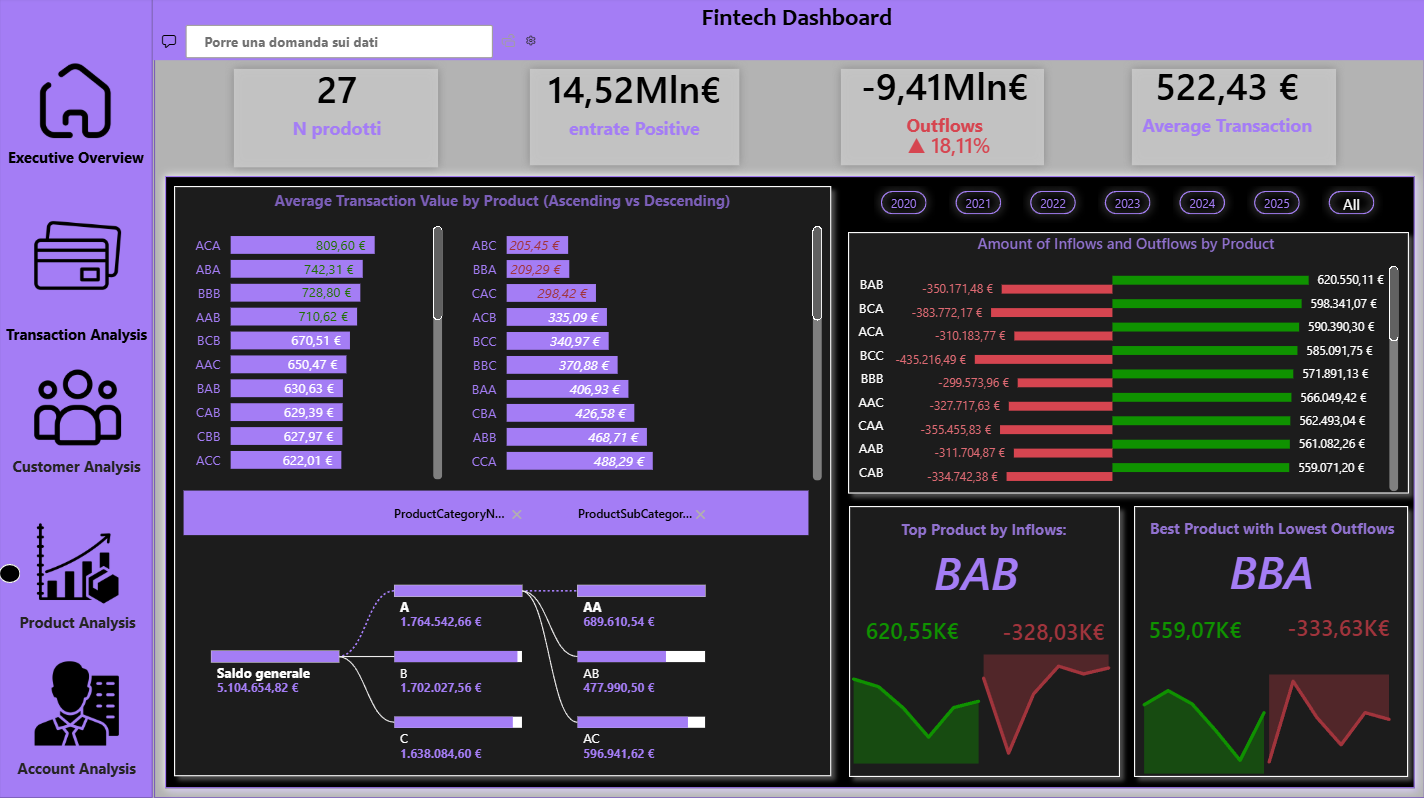

This screenshot's page, from the dashboard's own definition file:
{"tool":"powerbi","page":{"name":"Product Analysis","canvas":[1280,720],"ordinal":3},"visuals":[{"type":"shape","box":[139.1,0,1140.9,719.2],"z":0},{"type":"shape","box":[140,151.3,1140,567.6],"z":1000},{"type":"shape","box":[0,0,138.1,719.2],"z":2000},{"type":"shape","box":[203,56.4,199.2,104.3],"z":3000},{"type":"shape","box":[138.1,0,1141.9,56.7],"z":4000},{"type":"shape","box":[748.1,56.4,198.3,102.4],"z":5000},{"type":"card","fields":{"Values":["Misure.N prodotti"]},"box":[203.9,49.8,199.2,86.5],"z":6000},{"type":"shape","box":[469,56.4,203.9,102.4],"z":7000},{"type":"card","fields":{"Values":["Misure.uscite negative"]},"box":[756.5,49.8,184.2,81.8],"z":8000},{"type":"card","fields":{"Values":["Misure.entrate Positive"]},"box":[460.9,42.2,219.6,101.7],"z":9000},{"type":"textbox","box":[619.7,0,193.7,49.2],"z":10000},{"type":"qnaVisual","box":[136.1,0,356,55.8],"z":11000},{"type":"shape","box":[0,509.4,19.3,17.1],"z":12000},{"type":"textbox","box":[0,130.6,138.1,35.3],"z":13000},{"type":"textbox","box":[0,289,139.1,31],"z":14000},{"type":"textbox","box":[0,407.8,139.1,31],"z":15000},{"type":"image","box":[35.3,55.7,67.4,74.9],"z":16000},{"type":"image","box":[30,329.6,81.3,78.1],"z":17000},{"type":"image","box":[30,469.8,81.3,78.1],"z":18000},{"type":"image","box":[28.9,595.1,81.3,78.1],"z":19000},{"type":"shape","box":[1009.3,56.4,199.2,102.4],"z":20000},{"type":"image","box":[30,192.6,81.3,78.1],"z":21000},{"type":"card","fields":{"Values":["Misure.Uscite YoY KPI"]},"box":[743.4,109,219,52.6],"z":22000},{"type":"textbox","box":[1.1,548,139.1,31],"z":23000},{"type":"textbox","box":[0,678.5,139.1,31],"z":24000},{"type":"card","fields":{"Values":["Misure.valore medio transazione"]},"box":[1019.7,45.1,165.4,91.2],"z":25000},{"type":"shape","box":[148.5,160.7,608,547.9],"z":26000},{"type":"shape","box":[753.7,448.3,261.3,261.3],"z":27000},{"type":"barChart","title":"Average Transaction Value by Product","fields":{"Category":["Dimproduct.ProductName"],"Y":["Misure.valore medio transazione"]},"box":[167.3,192.7,235.9,245.3],"z":28000},{"type":"barChart","title":"Average Transaction Value by Product","fields":{"Category":["Dimproduct.ProductName"],"Y":["Misure.valore medio transazione"]},"box":[414.4,192.7,328.9,246.2],"z":29000},{"type":"textbox","box":[160.7,169.2,582.7,31],"z":30000},{"type":"card","fields":{"Values":["Misure.entrate Positive"]},"box":[762,553.3,115.6,34.2],"z":31000},{"type":"shape","box":[752.8,202.1,521.6,252.8],"z":31500},{"type":"card","fields":{"Values":["Misure.uscite negative"]},"box":[894.7,542.3,103.4,58.3],"z":32000},{"type":"card","fields":{"Values":["Misure.Top Product"]},"box":[756.7,479.5,240.8,73.8],"z":33000},{"type":"clusteredBarChart","title":"Amount of Inflows and Outflows by Product","fields":{"Category":["Dimproduct.ProductName"],"Y":["Misure.entrate Positive","Misure.uscite negative"]},"box":[762.2,211.5,499,236.8],"z":34000},{"type":"textbox","box":[766.9,464.3,234.9,30.1],"z":35000},{"type":"stackedAreaChart","fields":{"Category":["Dimproduct.ProductName","calendario.Date.Variazione.Gerarchia data.Anno"],"Y":["Misure.entrate Positive"]},"box":[753.4,575.8,140.2,117.7],"z":36000},{"type":"stackedAreaChart","fields":{"Category":["Dimproduct.ProductName","calendario.Date.Variazione.Gerarchia data.Anno"],"Y":["Misure.uscite negative"]},"box":[870.1,576.9,140.2,117.7],"z":37000},{"type":"shape","box":[1010.3,448.3,264.1,261.3],"z":38000},{"type":"card","fields":{"Values":["Misure.Top Product outflout"]},"box":[1018.7,492.5,247.2,46],"z":39000},{"type":"card","fields":{"Values":["Misure.entrate Positive"]},"box":[1020.6,549.8,106.2,40.4],"z":40000},{"type":"card","fields":{"Values":["Misure.uscite negative"]},"box":[1149.4,547.9,107.1,40.4],"z":41000},{"type":"lineChart","fields":{"Category":["calendario.Date.Variazione.Gerarchia data.Anno","Dimproduct.ProductName"],"Y":["Misure.entrate Positive"]},"box":[1014.6,595.1,134.8,107],"z":42000},{"type":"lineChart","fields":{"Category":["calendario.Date.Variazione.Gerarchia data.Anno","Dimproduct.ProductName"],"Y":["Misure.uscite negative"]},"box":[1127,595.1,134.8,107],"z":43000},{"type":"textbox","box":[1019.7,463.3,246.2,31],"z":44000},{"type":"decompositionTreeVisual","fields":{"ExplainBy":["DimProductCategory.ProductCategoryName","DimProductSubCategory.ProductSubCategoryName"],"Analyze":["Misure.Saldo generale"]},"box":[160.5,438.3,571.4,255.6],"z":47000},{"type":"bookmarkNavigator","box":[783.8,166.3,459.6,37.6],"z":49000}]}

Visuals, with their boxes on the page's 1280x720 design canvas (x1, y1, x2, y2). These are canvas units, not pixel positions in the 1424x798 screenshot, which may show the page scaled, cropped or inside an application window:
shape: [left=139, top=0, right=1280, bottom=719]
shape: [left=140, top=151, right=1280, bottom=719]
shape: [left=0, top=0, right=138, bottom=719]
shape: [left=203, top=56, right=402, bottom=161]
shape: [left=138, top=0, right=1280, bottom=57]
shape: [left=748, top=56, right=946, bottom=159]
card - Misure.N prodotti: [left=204, top=50, right=403, bottom=136]
shape: [left=469, top=56, right=673, bottom=159]
card - Misure.uscite negative: [left=756, top=50, right=941, bottom=132]
card - Misure.entrate Positive: [left=461, top=42, right=680, bottom=144]
textbox: [left=620, top=0, right=813, bottom=49]
qnaVisual: [left=136, top=0, right=492, bottom=56]
shape: [left=0, top=509, right=19, bottom=526]
textbox: [left=0, top=131, right=138, bottom=166]
textbox: [left=0, top=289, right=139, bottom=320]
textbox: [left=0, top=408, right=139, bottom=439]
image: [left=35, top=56, right=103, bottom=131]
image: [left=30, top=330, right=111, bottom=408]
image: [left=30, top=470, right=111, bottom=548]
image: [left=29, top=595, right=110, bottom=673]
shape: [left=1009, top=56, right=1208, bottom=159]
image: [left=30, top=193, right=111, bottom=271]
card - Misure.Uscite YoY KPI: [left=743, top=109, right=962, bottom=162]
textbox: [left=1, top=548, right=140, bottom=579]
textbox: [left=0, top=678, right=139, bottom=710]
card - Misure.valore medio transazione: [left=1020, top=45, right=1185, bottom=136]
shape: [left=148, top=161, right=756, bottom=709]
shape: [left=754, top=448, right=1015, bottom=710]
"Average Transaction Value by Product" barChart: [left=167, top=193, right=403, bottom=438]
"Average Transaction Value by Product" barChart: [left=414, top=193, right=743, bottom=439]
textbox: [left=161, top=169, right=743, bottom=200]
card - Misure.entrate Positive: [left=762, top=553, right=878, bottom=588]
shape: [left=753, top=202, right=1274, bottom=455]
card - Misure.uscite negative: [left=895, top=542, right=998, bottom=601]
card - Misure.Top Product: [left=757, top=480, right=998, bottom=553]
"Amount of Inflows and Outflows by Product" clusteredBarChart: [left=762, top=212, right=1261, bottom=448]
textbox: [left=767, top=464, right=1002, bottom=494]
stackedAreaChart - Dimproduct.ProductName x calendario.Date.Variazione.Gerarchia data.Anno: [left=753, top=576, right=894, bottom=694]
stackedAreaChart - Dimproduct.ProductName x calendario.Date.Variazione.Gerarchia data.Anno: [left=870, top=577, right=1010, bottom=695]
shape: [left=1010, top=448, right=1274, bottom=710]
card - Misure.Top Product outflout: [left=1019, top=492, right=1266, bottom=538]
card - Misure.entrate Positive: [left=1021, top=550, right=1127, bottom=590]
card - Misure.uscite negative: [left=1149, top=548, right=1256, bottom=588]
lineChart - calendario.Date.Variazione.Gerarchia data.Anno x Dimproduct.ProductName: [left=1015, top=595, right=1149, bottom=702]
lineChart - calendario.Date.Variazione.Gerarchia data.Anno x Dimproduct.ProductName: [left=1127, top=595, right=1262, bottom=702]
textbox: [left=1020, top=463, right=1266, bottom=494]
decompositionTreeVisual - DimProductCategory.ProductCategoryName x DimProductSubCategory.ProductSubCategoryName: [left=160, top=438, right=732, bottom=694]
bookmarkNavigator: [left=784, top=166, right=1243, bottom=204]
